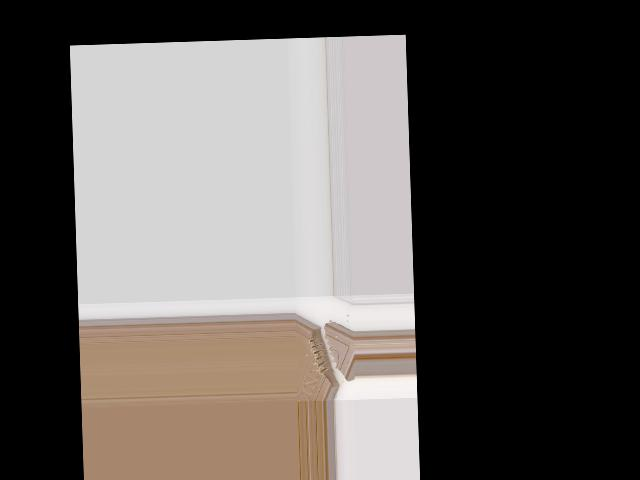chocolate: (295, 310, 356, 401)
